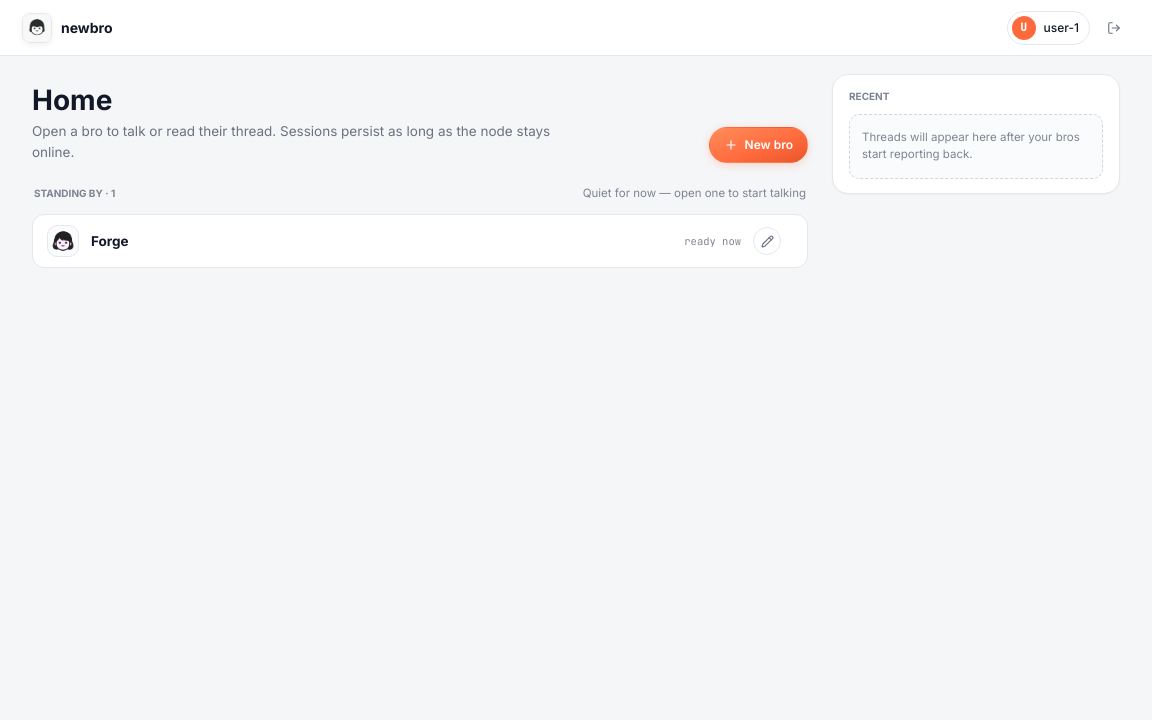
Test case: Newbro artboard shell › renames a Bro from desktop Home without navigating and refreshes the shell snapshot
Expected: the link with test id "bro-card-forge" is shown, [32,214,808,268]
Click the button named "Edit Forge": x=767, y=242 [753,228,781,256]
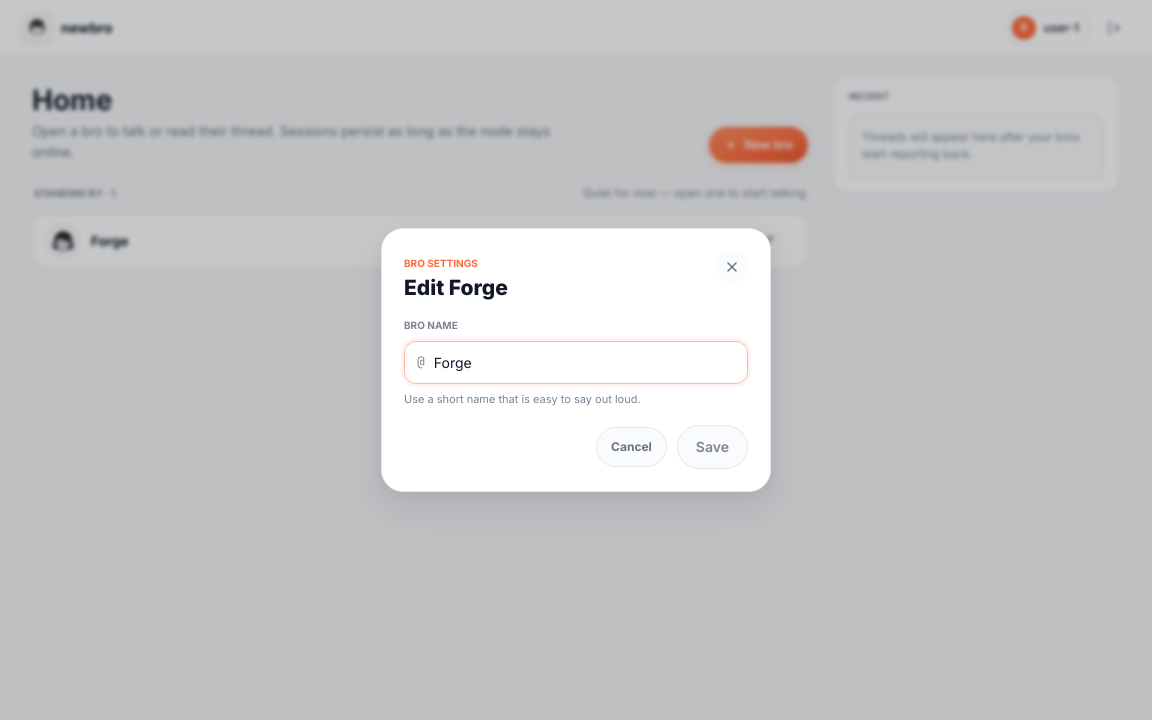
Replace the text in the field labelled "BRO NAME" with "Scout": x=584, y=362 [434,352,735,373]
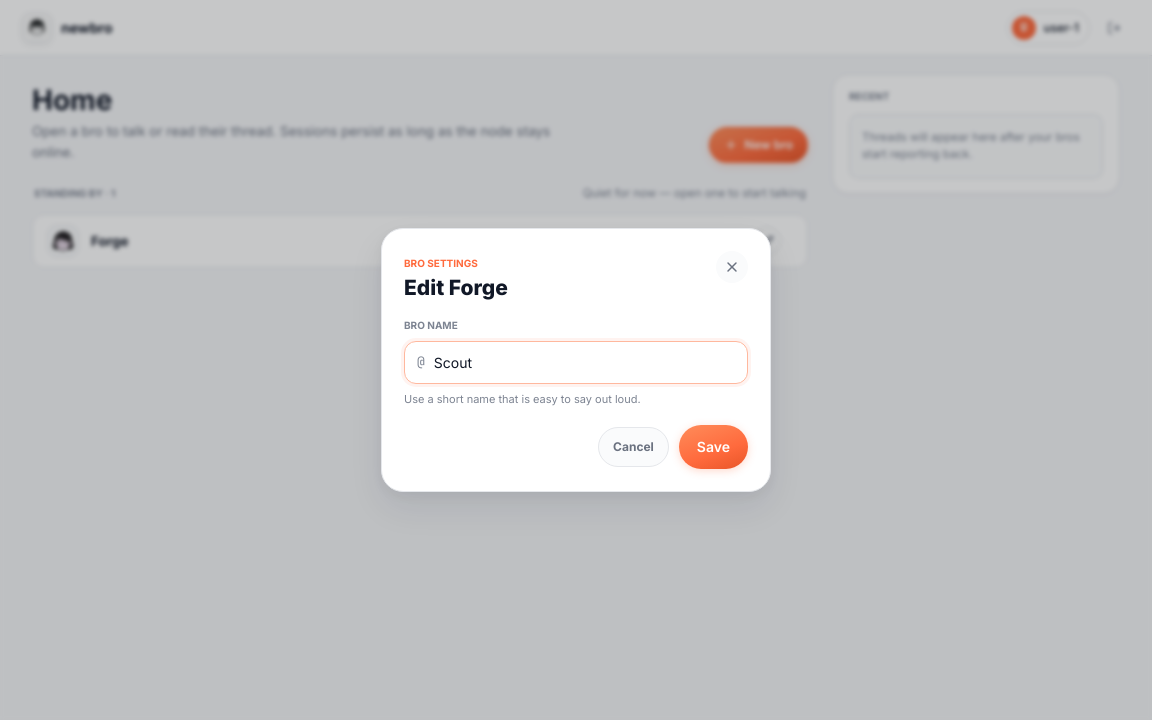
Click the button "Save": x=713, y=447 [679,425,748,469]
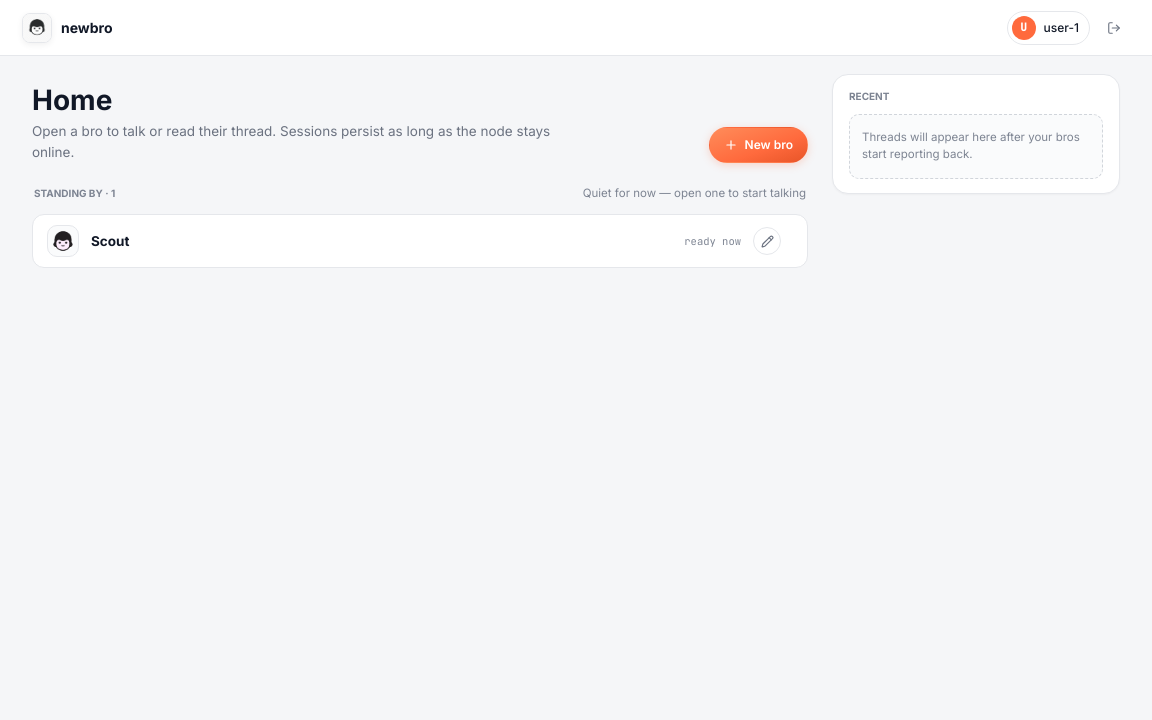
Expected: the text "Scout" is shown, [91,233,129,249]
Expected: the dialog is gone
